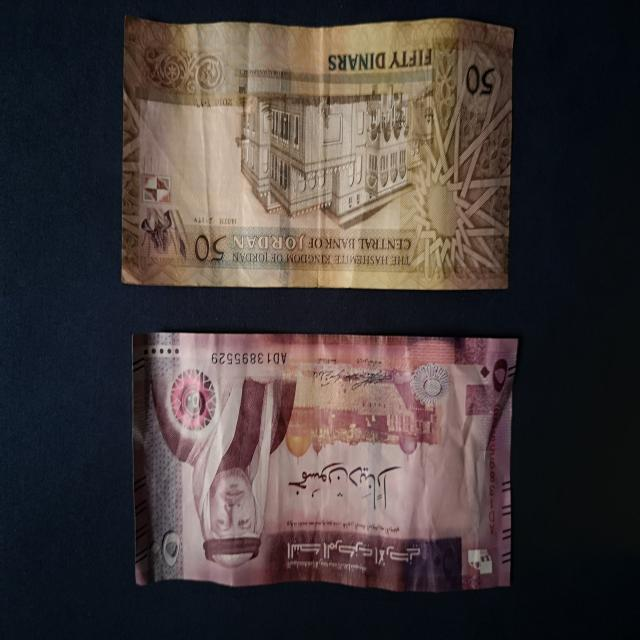50-dinar: (121, 16, 514, 288), (131, 334, 517, 590)
